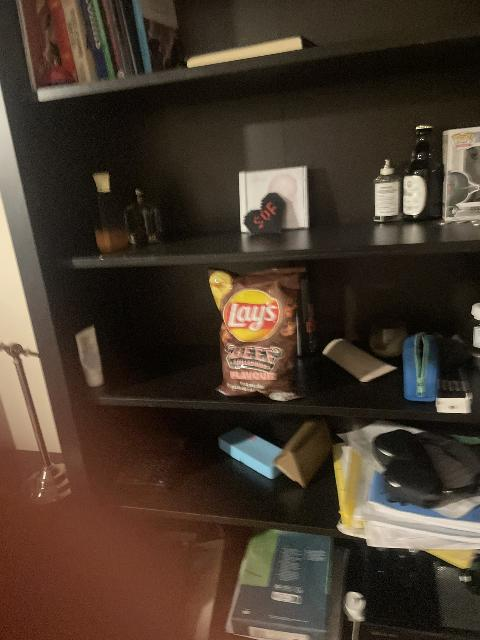Lays Beef Grilled Ribs 125g: (211, 266, 309, 403)
